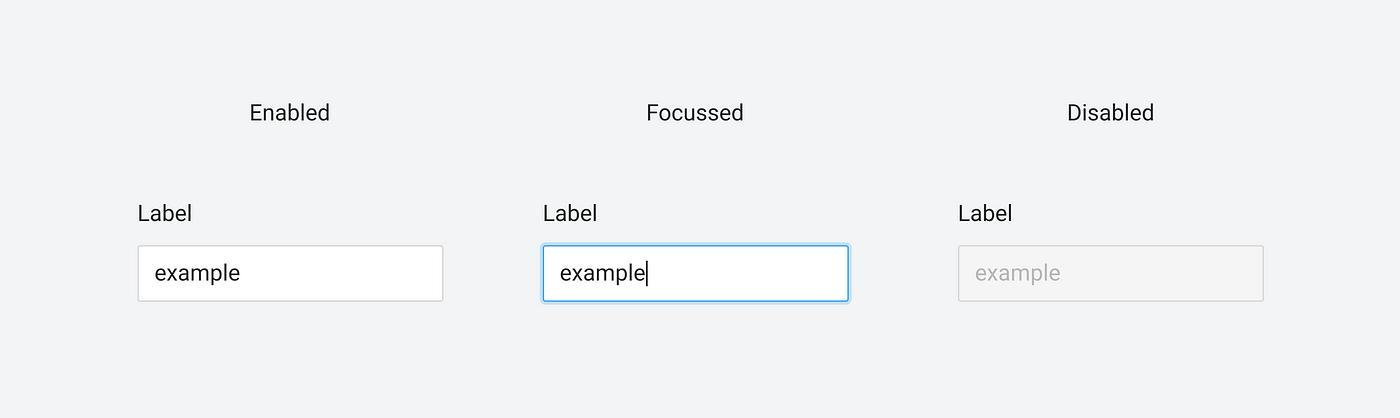input: (140, 244, 447, 305), (544, 244, 850, 303), (959, 245, 1263, 302)
label: (533, 197, 605, 228), (954, 198, 1018, 231), (132, 200, 199, 229)
